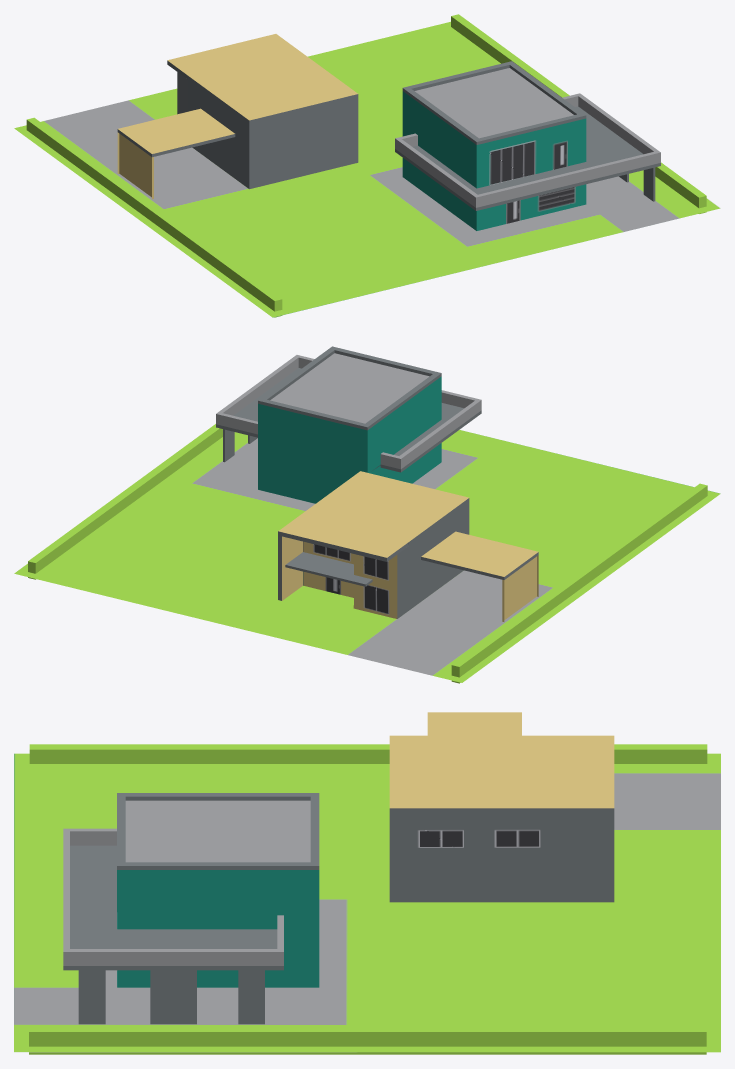
The model's file is 2maisons_4.glb.
The picture shows the model from 3 angles, top to bottom: view 1: azimuth 30°, elevation 25°; view 2: azimuth 150°, elevation 25°; view 3: azimuth 270°, elevation 25°; orthographic projection. The views are drawn at different scales.
Parts seen in each view (by area): view 1: Plan; view 2: Plan; view 3: Plan.
Part boxes in pixels (x1,y1,x2,y2): Plan: (14, 14, 720, 317); Plan: (14, 346, 720, 683); Plan: (14, 712, 720, 1054).
Bounding box in the file's own units: 15 × 3.26 × 15.
Materials: 1 (1 with a texture image).
